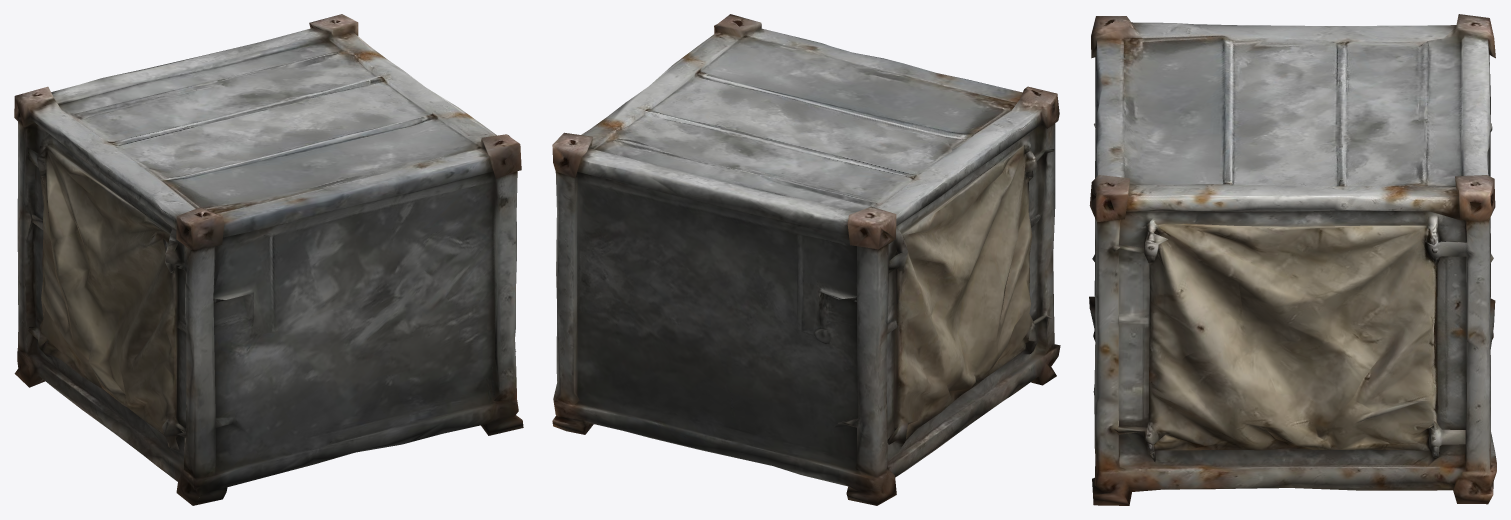
File: ap_uld.glb
3 views of the same model, side by side, from view 1: azimuth 30°, elevation 25°; view 2: azimuth 150°, elevation 25°; view 3: azimuth 270°, elevation 25° (orthographic). The views are drawn at different scales.
Parts seen in each view (by area): view 1: tripo_node_11cd58fc-aae9-4a3c-b4ec-e111aa375843; view 2: tripo_node_11cd58fc-aae9-4a3c-b4ec-e111aa375843; view 3: tripo_node_11cd58fc-aae9-4a3c-b4ec-e111aa375843.
Part boxes in pixels (left/top/right/bottom): tripo_node_11cd58fc-aae9-4a3c-b4ec-e111aa375843: left=14, top=14, right=523, bottom=505; tripo_node_11cd58fc-aae9-4a3c-b4ec-e111aa375843: left=552, top=14, right=1060, bottom=505; tripo_node_11cd58fc-aae9-4a3c-b4ec-e111aa375843: left=1089, top=14, right=1496, bottom=505.
Bounding box in the file's own units: 1 × 0.8026 × 0.936.
1 material, 1 textured.
